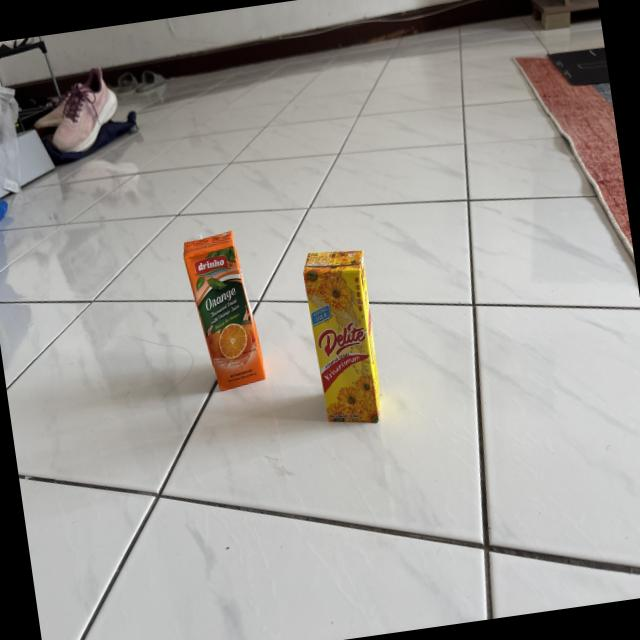drink_carton: (292, 236, 392, 437), (176, 220, 274, 402)
